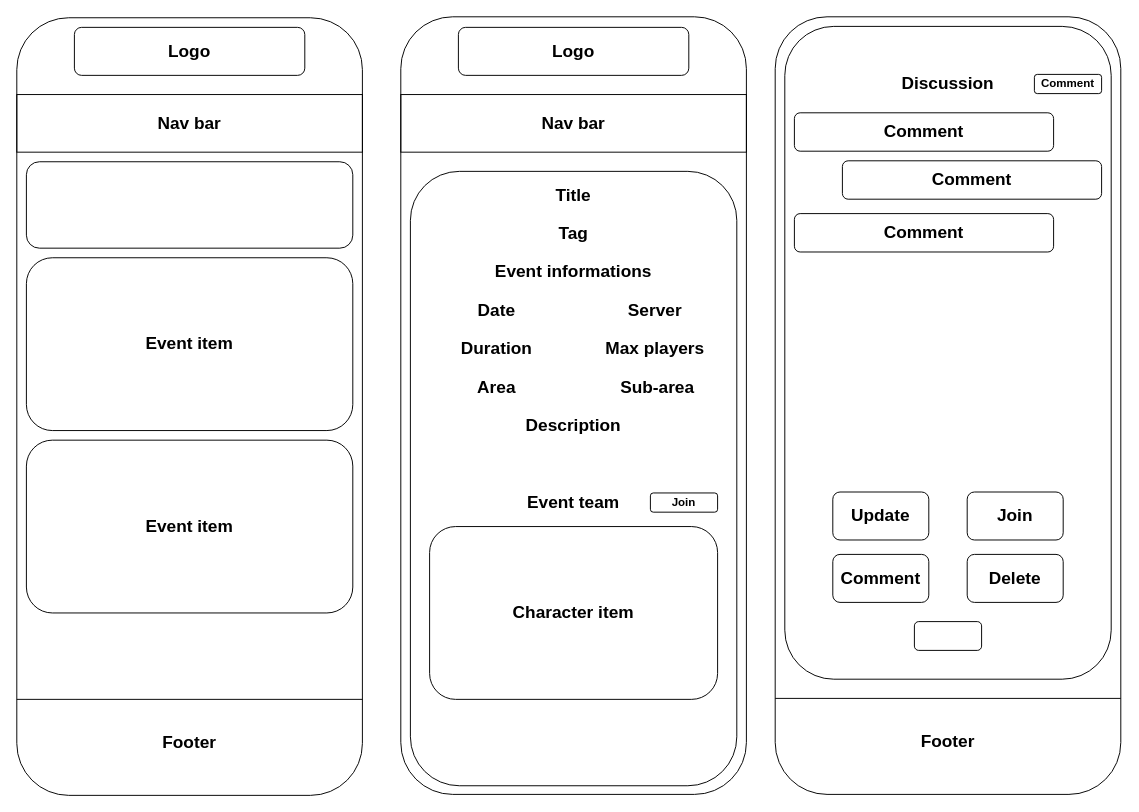
Image size: 1139x812. Some labels were removed from this diagram. Each missing label, with the centre of its shape:
"Filters" belongs at [189,204].
"Return" belongs at [947,635].
